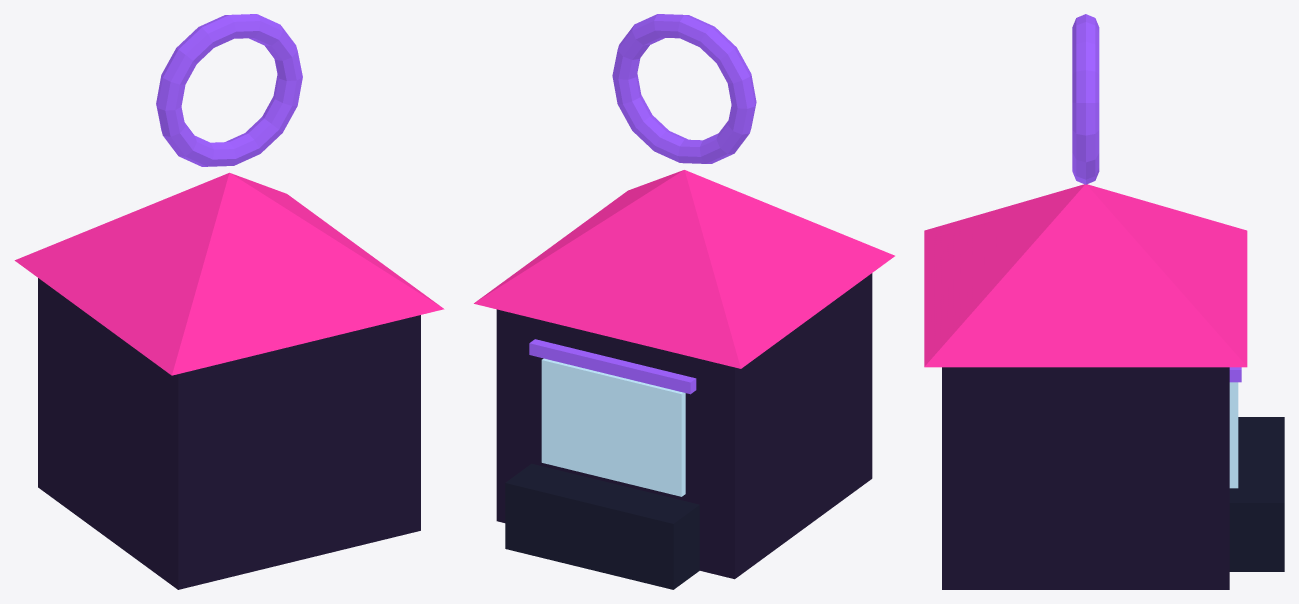
File: fortune-transformed.glb
3 renders of one model, left to right at view 1: azimuth 30°, elevation 25°; view 2: azimuth 150°, elevation 25°; view 3: azimuth 270°, elevation 25°, orthographic. The views are drawn at different scales.
Parts seen in each view (by area): view 1: park_booth, park_neon_magenta, park_neon_purple; view 2: park_booth, park_neon_magenta, park_dark, park_pale, park_neon_purple; view 3: park_booth, park_neon_magenta, park_dark, park_neon_purple, park_pale.
Boxes of the visible parts, x1=… form: park_booth: x1=38, y1=278, x2=420, y2=589; park_neon_magenta: x1=14, y1=172, x2=444, y2=375; park_neon_purple: x1=156, y1=14, x2=302, y2=166; park_booth: x1=496, y1=273, x2=872, y2=579; park_neon_magenta: x1=474, y1=170, x2=894, y2=368; park_dark: x1=505, y1=463, x2=699, y2=589; park_pale: x1=541, y1=358, x2=685, y2=496; park_neon_purple: x1=529, y1=14, x2=756, y2=394; park_booth: x1=942, y1=367, x2=1229, y2=589; park_neon_magenta: x1=924, y1=184, x2=1247, y2=367; park_dark: x1=1229, y1=417, x2=1284, y2=571; park_neon_purple: x1=1072, y1=14, x2=1241, y2=382; park_pale: x1=1229, y1=382, x2=1238, y2=488.
Size of what is drawn, in the model's own units: 3.82 by 6.61 by 4.26.
